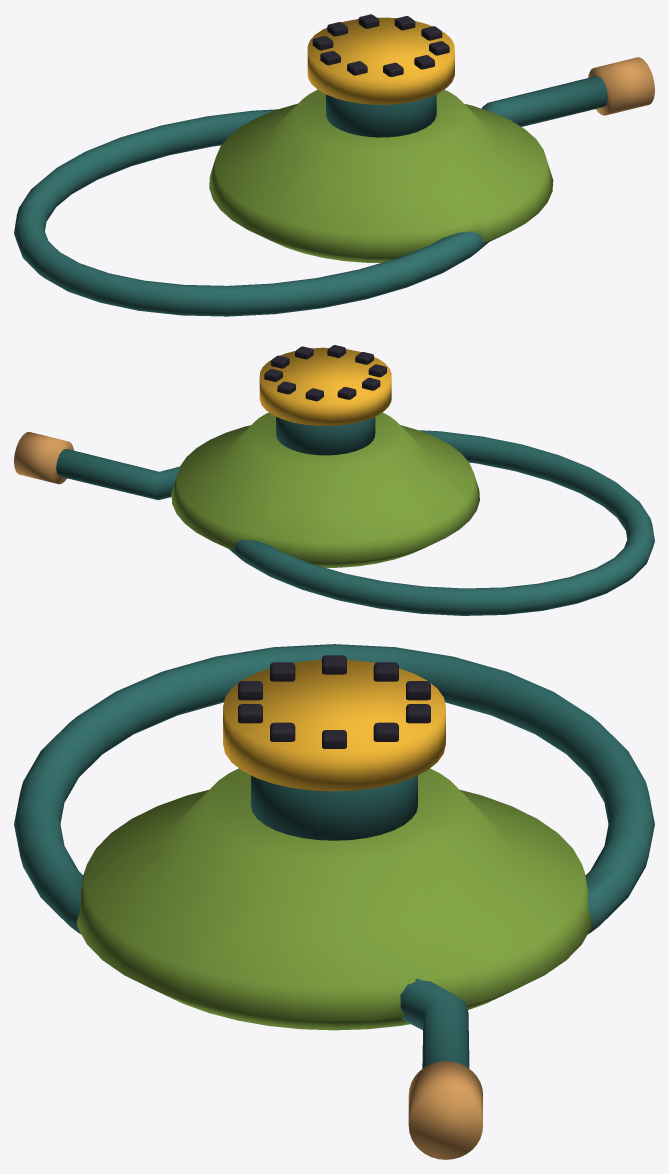
3 renders of one model, top to bottom at view 1: azimuth 30°, elevation 25°; view 2: azimuth 150°, elevation 25°; view 3: azimuth 270°, elevation 25°, orthographic. The views are drawn at different scales.
Visible parts, largest first — view 1: root_pal_foliage, root_pal_backpackTeal, root_pal_schoolBusYellow, root_pal_brass, sprinklerHead_pal_uiDark; view 2: root_pal_foliage, root_pal_backpackTeal, root_pal_schoolBusYellow, root_pal_brass, sprinklerHead_pal_uiDark; view 3: root_pal_foliage, root_pal_backpackTeal, root_pal_schoolBusYellow, root_pal_brass, sprinklerHead_pal_uiDark.
Part boxes in pixels (x1,y1,x2,y2): root_pal_foliage: (209, 89, 553, 262); root_pal_backpackTeal: (14, 76, 607, 316); root_pal_schoolBusYellow: (307, 17, 454, 104); root_pal_brass: (588, 57, 654, 115); sprinklerHead_pal_uiDark: (312, 14, 449, 76); root_pal_foliage: (171, 412, 479, 567); root_pal_backpackTeal: (56, 416, 654, 615); root_pal_schoolBusYellow: (259, 347, 391, 425); root_pal_brass: (14, 432, 73, 484); sprinklerHead_pal_uiDark: (264, 345, 386, 401); root_pal_foliage: (76, 768, 592, 1030); root_pal_backpackTeal: (14, 644, 654, 1068); root_pal_schoolBusYellow: (223, 660, 445, 791); root_pal_brass: (408, 1061, 482, 1159); sprinklerHead_pal_uiDark: (238, 655, 430, 748).
Size of the model in its own units: 1.21 by 0.2895 by 0.6902.
